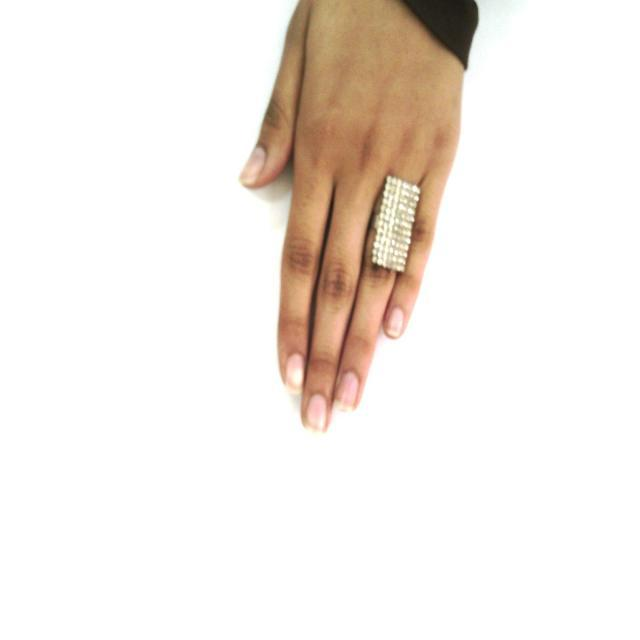Fingernail: (334, 370, 359, 415), (241, 147, 265, 183), (306, 395, 327, 434), (286, 354, 304, 392), (386, 308, 403, 337)
